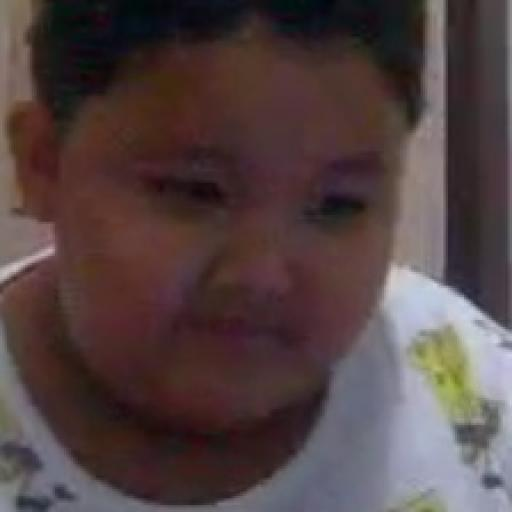Autism: (56, 8, 466, 512)
